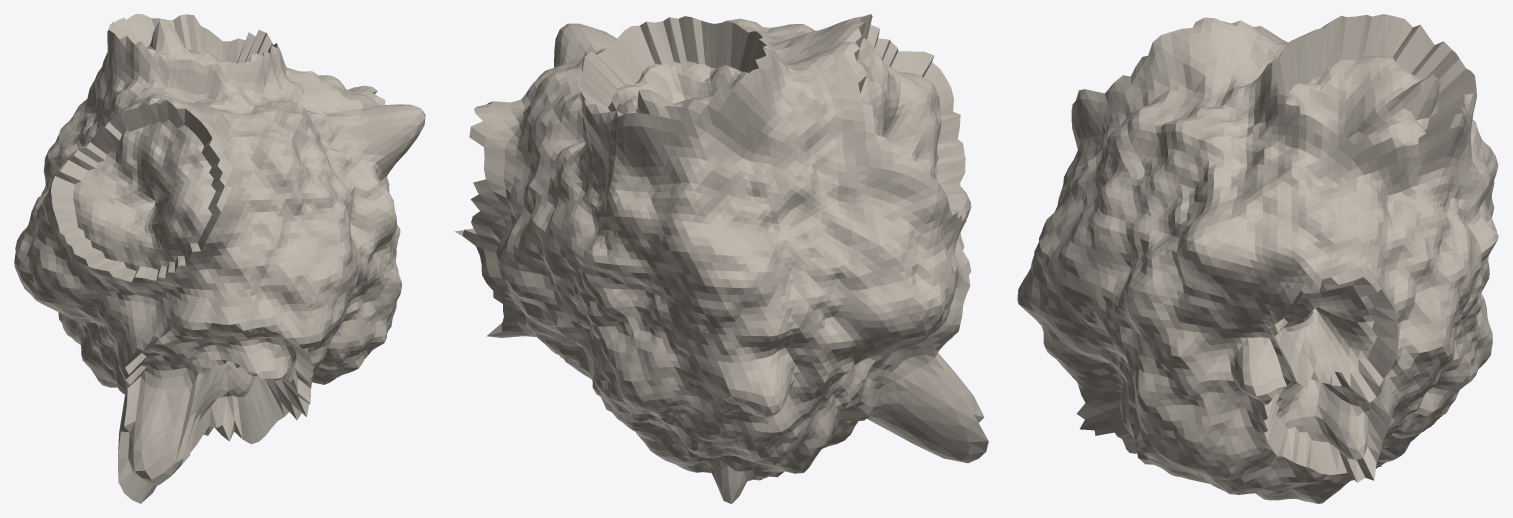
File: asteroid-42.glb
The picture shows the model from 3 angles, left to right: view 1: azimuth 30°, elevation 25°; view 2: azimuth 150°, elevation 25°; view 3: azimuth 270°, elevation 25°; orthographic projection. The views are drawn at different scales.
Parts seen in each view (by area): view 1: Asteroid; view 2: Asteroid; view 3: Asteroid.
Part boxes in pixels (x1,y1,x2,y2): Asteroid: (14,14,425,503); Asteroid: (454,14,988,503); Asteroid: (1017,14,1498,503).
Bounding box in the file's own units: 19.47 × 18.88 × 17.75.
Materials: 1 (1 with a texture image).
